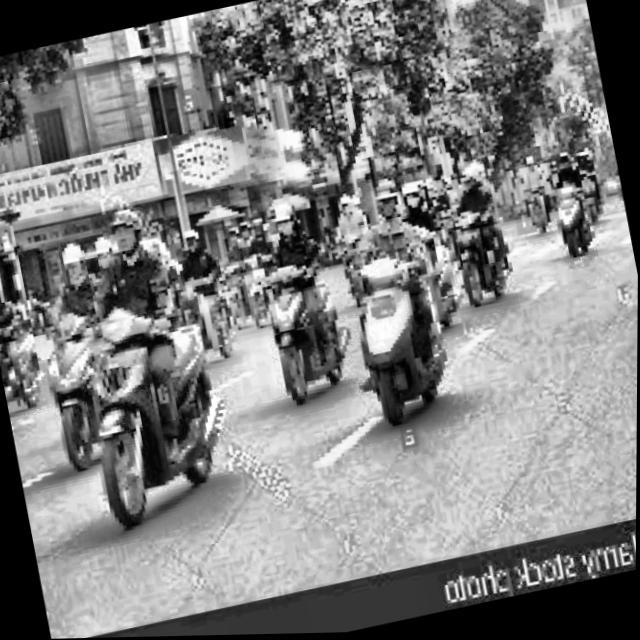motorcycle: (60, 260, 260, 531), (318, 224, 464, 440), (257, 235, 360, 408), (447, 193, 522, 314), (203, 239, 278, 333), (534, 167, 602, 268), (0, 298, 49, 414), (603, 162, 626, 216)
